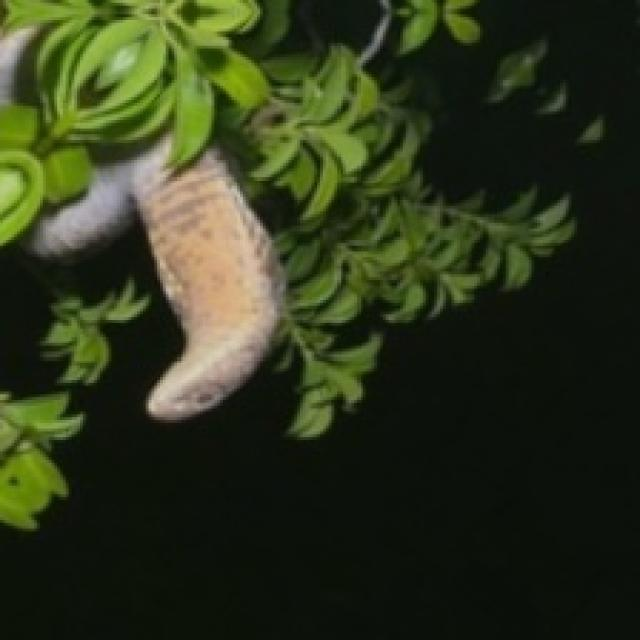king cobra: (0, 0, 283, 417), (29, 134, 283, 420)
